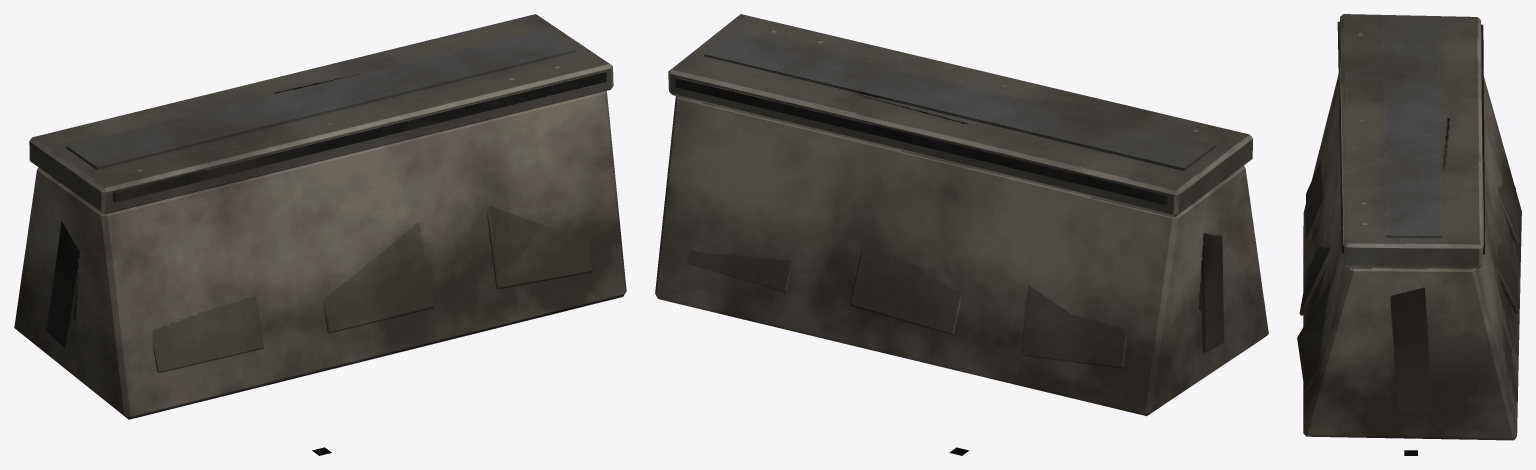
File: ord_barrier_wreck.fbx
3 views of the same model, side by side, from view 1: azimuth 30°, elevation 25°; view 2: azimuth 150°, elevation 25°; view 3: azimuth 270°, elevation 25° (orthographic). The views are drawn at different scales.
Visible parts, largest first — view 1: base_bar; view 2: base_bar; view 3: base_bar.
Part boxes in pixels (box(x1,y1,x2,y2)): base_bar: box(14, 14, 626, 419); base_bar: box(655, 14, 1268, 416); base_bar: box(1297, 14, 1521, 440).
Size of the model in its own units: 805 by 525 by 327.
2 materials, 2 textured.
